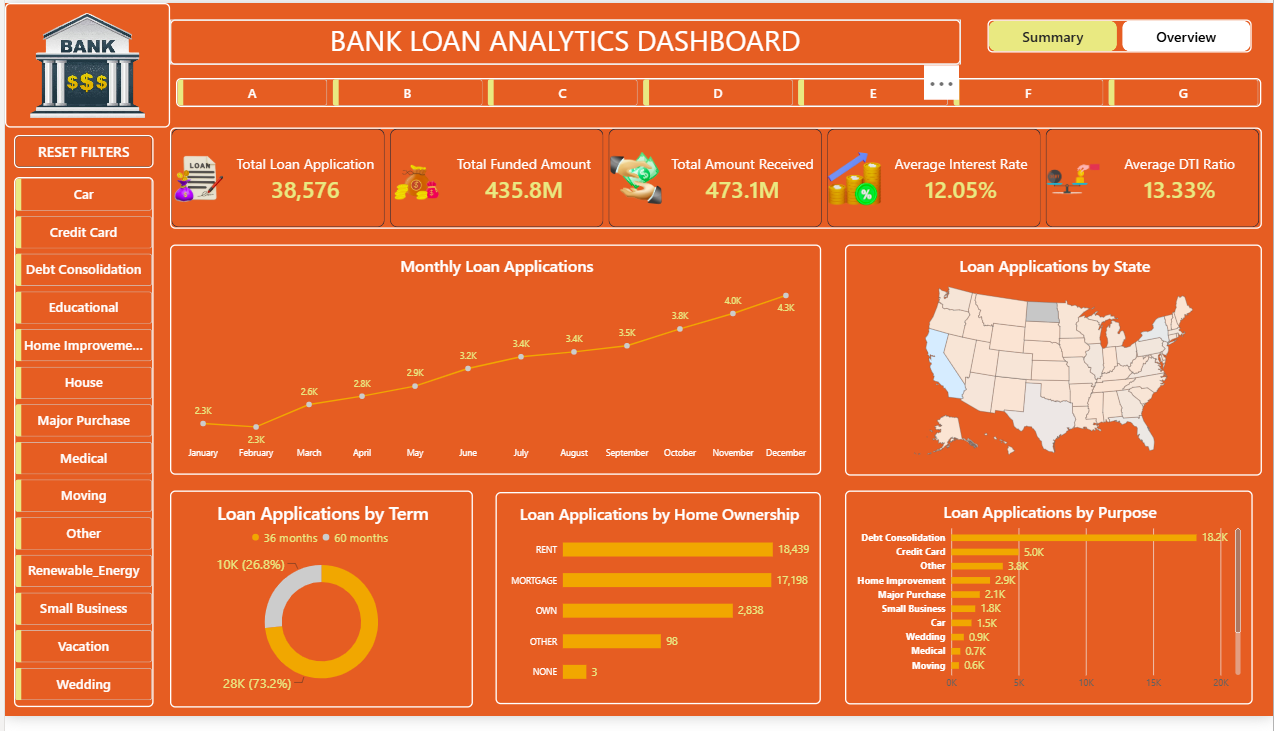

What the dashboard file says about the page in this screenshot:
{"tool":"powerbi","page":{"name":"Overview","canvas":[1920,1080],"ordinal":1},"visuals":[{"type":"cardVisual","fields":{"Data":["financial_loan.Total Loan Application","financial_loan.Total Funded Amount","financial_loan.Total Amount Received","financial_loan.Average Interest Rate","financial_loan.Average DTI Rate"]},"box":[250,187.8,1653.3,153.3],"z":0},{"type":"image","box":[0,0,249.8,188.5],"z":1000},{"type":"advancedSlicerVisual","fields":{"Values":["financial_loan.PURPOSE"]},"box":[14.3,264.3,211.4,802.9],"z":2000},{"type":"advancedSlicerVisual","fields":{"Values":["financial_loan.GRADE"]},"box":[260,113,1643,44],"z":3000},{"type":"actionButton","box":[14.3,200,211.4,50],"z":4000},{"type":"textbox","box":[250,24.3,1197.1,68.6],"z":5000},{"type":"pageNavigator","box":[1488.6,24.3,400,50],"z":6000},{"type":"lineChart","title":"Monthly Loan Applications","fields":{"Category":["financial_loan.ISSUE_DATE.Variation.Date Hierarchy.Month"],"Y":["financial_loan.Total Loan Application"]},"box":[250,365.7,985.7,348.6],"z":7000},{"type":"donutChart","title":"Loan Applications by Term","fields":{"Category":["financial_loan.TERM"],"Y":["financial_loan.Total Loan Application"]},"box":[250,738.6,458.6,328.6],"z":8000},{"type":"clusteredBarChart","title":"Loan Applications by Home Ownership","fields":{"Category":["financial_loan.HOME_OWNERSHIP"],"Y":["financial_loan.Total Loan Application"]},"box":[742.9,741.4,492.9,321.4],"z":9000},{"type":"barChart","title":"Loan Applications by Purpose","fields":{"Category":["financial_loan.PURPOSE"],"Y":["financial_loan.Total Loan Application"]},"box":[1271.4,738.6,617.1,324.3],"z":10000},{"type":"shapeMap","title":"Loan Applications by State","fields":{"Category":["financial_loan.ADDRESS_STATE"],"Value":["financial_loan.Total Loan Application"]},"box":[1271.4,365.7,631.4,350],"z":11000}]}

Visuals, with their boxes in screenshot pixels (x1, y1, x2, y2), scaled from the page's 1920x1080 canvas onto the 1284x731 screenshot:
cardVisual - financial_loan.Total Loan Application x financial_loan.Total Funded Amount: <region>167, 127, 1273, 231</region>
image: <region>0, 0, 167, 128</region>
advancedSlicerVisual - financial_loan.PURPOSE: <region>10, 179, 151, 722</region>
advancedSlicerVisual - financial_loan.GRADE: <region>174, 76, 1273, 106</region>
actionButton: <region>10, 135, 151, 169</region>
textbox: <region>167, 16, 968, 63</region>
pageNavigator: <region>996, 16, 1263, 50</region>
"Monthly Loan Applications" lineChart: <region>167, 248, 826, 483</region>
"Loan Applications by Term" donutChart: <region>167, 500, 474, 722</region>
"Loan Applications by Home Ownership" clusteredBarChart: <region>497, 502, 826, 719</region>
"Loan Applications by Purpose" barChart: <region>850, 500, 1263, 719</region>
"Loan Applications by State" shapeMap: <region>850, 248, 1272, 484</region>
